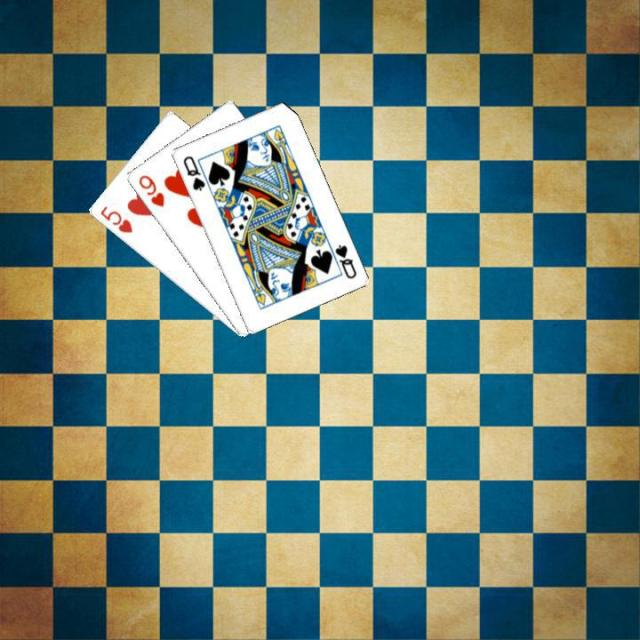5H: (96, 202, 134, 234)
9H: (134, 171, 166, 209)
QS: (179, 152, 206, 193), (331, 241, 358, 281)
